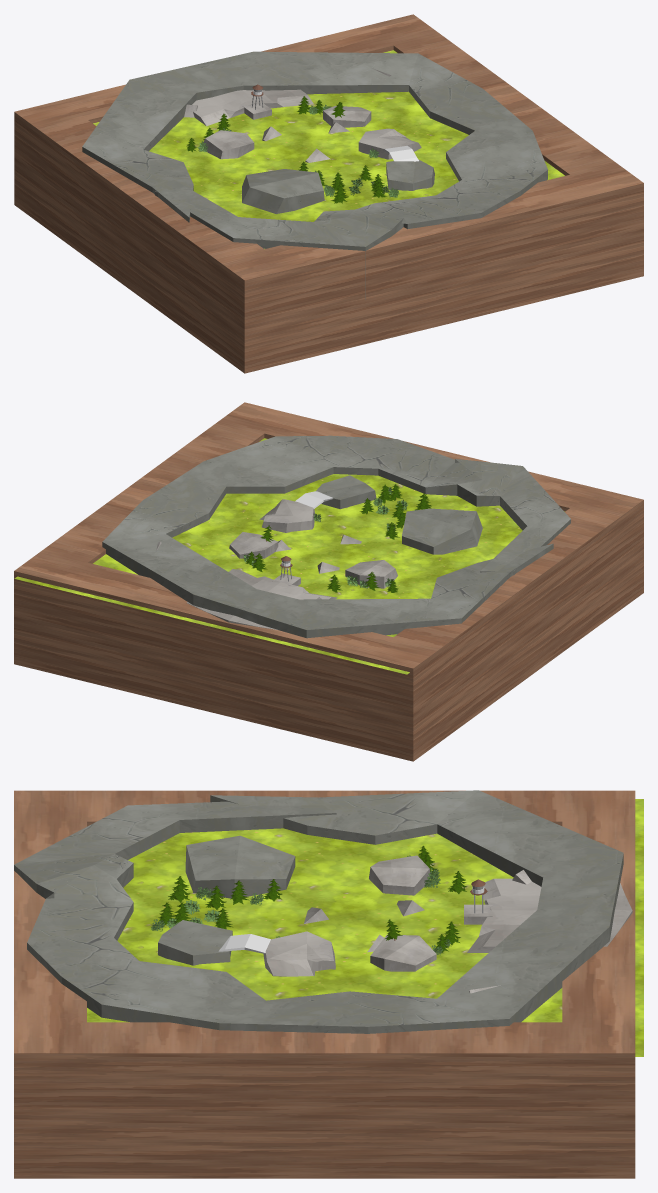
Rendered from TL_map_kaukaz_v3.glb.
The picture shows the model from 3 angles, top to bottom: view 1: azimuth 30°, elevation 25°; view 2: azimuth 150°, elevation 25°; view 3: azimuth 270°, elevation 25°; orthographic projection. The views are drawn at different scales.
Visible parts, largest first — view 1: Cube, Cube.005, Plane, Cube.001, Cube.003, Cube.007, Cube.002, Cube.004, Cube.009; view 2: Cube, Cube.005, Plane, Cube.001, Cube.003, Cube.004, Cube.007, Cube.002, Cube.009; view 3: Cube, Cube.005, Plane, Cube.001, Cube.003, Cube.004, Cube.007, Cube.002, Cube.009, Cube.008.
Boxes of the visible parts, box(x1,y1,x2,y2) form: Cube: box(14, 14, 643, 373); Cube.005: box(82, 51, 547, 299); Plane: box(93, 50, 564, 249); Cube.001: box(242, 169, 324, 213); Cube.003: box(192, 89, 313, 126); Cube.007: box(386, 159, 434, 190); Cube.002: box(203, 130, 254, 159); Cube.004: box(358, 128, 421, 159); Cube.009: box(323, 106, 371, 127); Cube: box(14, 402, 643, 761); Cube.005: box(102, 435, 570, 638); Plane: box(14, 438, 564, 674); Cube.001: box(402, 508, 482, 554); Cube.003: box(186, 569, 336, 629); Cube.004: box(259, 499, 315, 532); Cube.007: box(316, 475, 376, 509); Cube.002: box(345, 560, 397, 588); Cube.009: box(229, 532, 278, 558); Cube: box(14, 790, 635, 1178); Cube.005: box(14, 790, 623, 1033); Plane: box(87, 799, 643, 1056); Cube.001: box(185, 835, 295, 898); Cube.003: box(467, 878, 632, 952); Cube.004: box(263, 931, 335, 976); Cube.007: box(158, 920, 232, 965); Cube.002: box(369, 855, 430, 895); Cube.009: box(370, 934, 436, 971); Cube.008: box(218, 934, 270, 953).
Bounding box in the file's own units: 1.63 × 0.4597 × 1.65.
10 materials, 7 textured.
